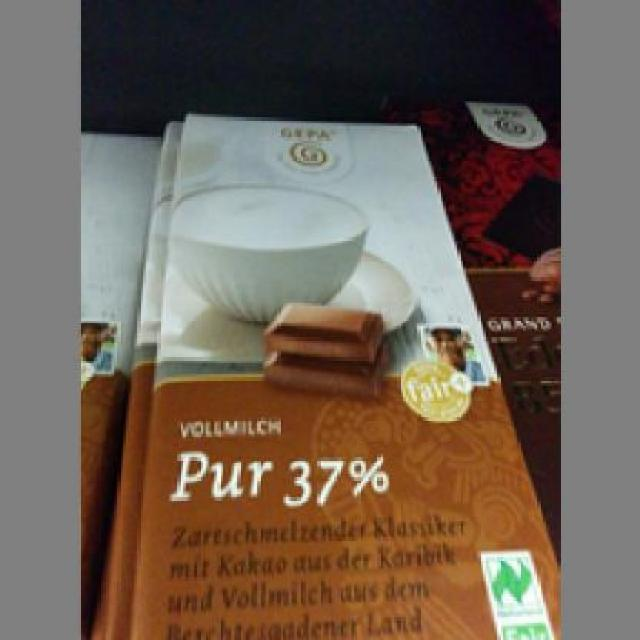Chocolate bar: (130, 113, 548, 636)
